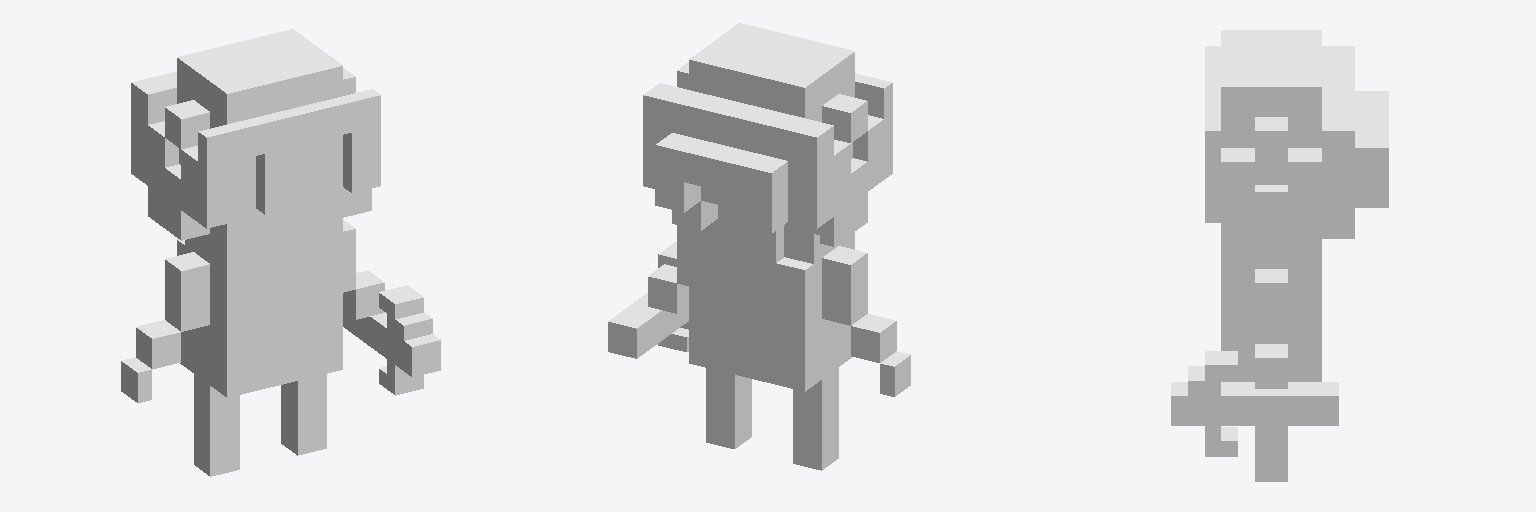
Rendered from YoungMiner.obj.
3 views of the same model, side by side, from view 1: azimuth 30°, elevation 25°; view 2: azimuth 150°, elevation 25°; view 3: azimuth 270°, elevation 25° (orthographic).
Size of the model in its own units: 18 by 26 by 13.